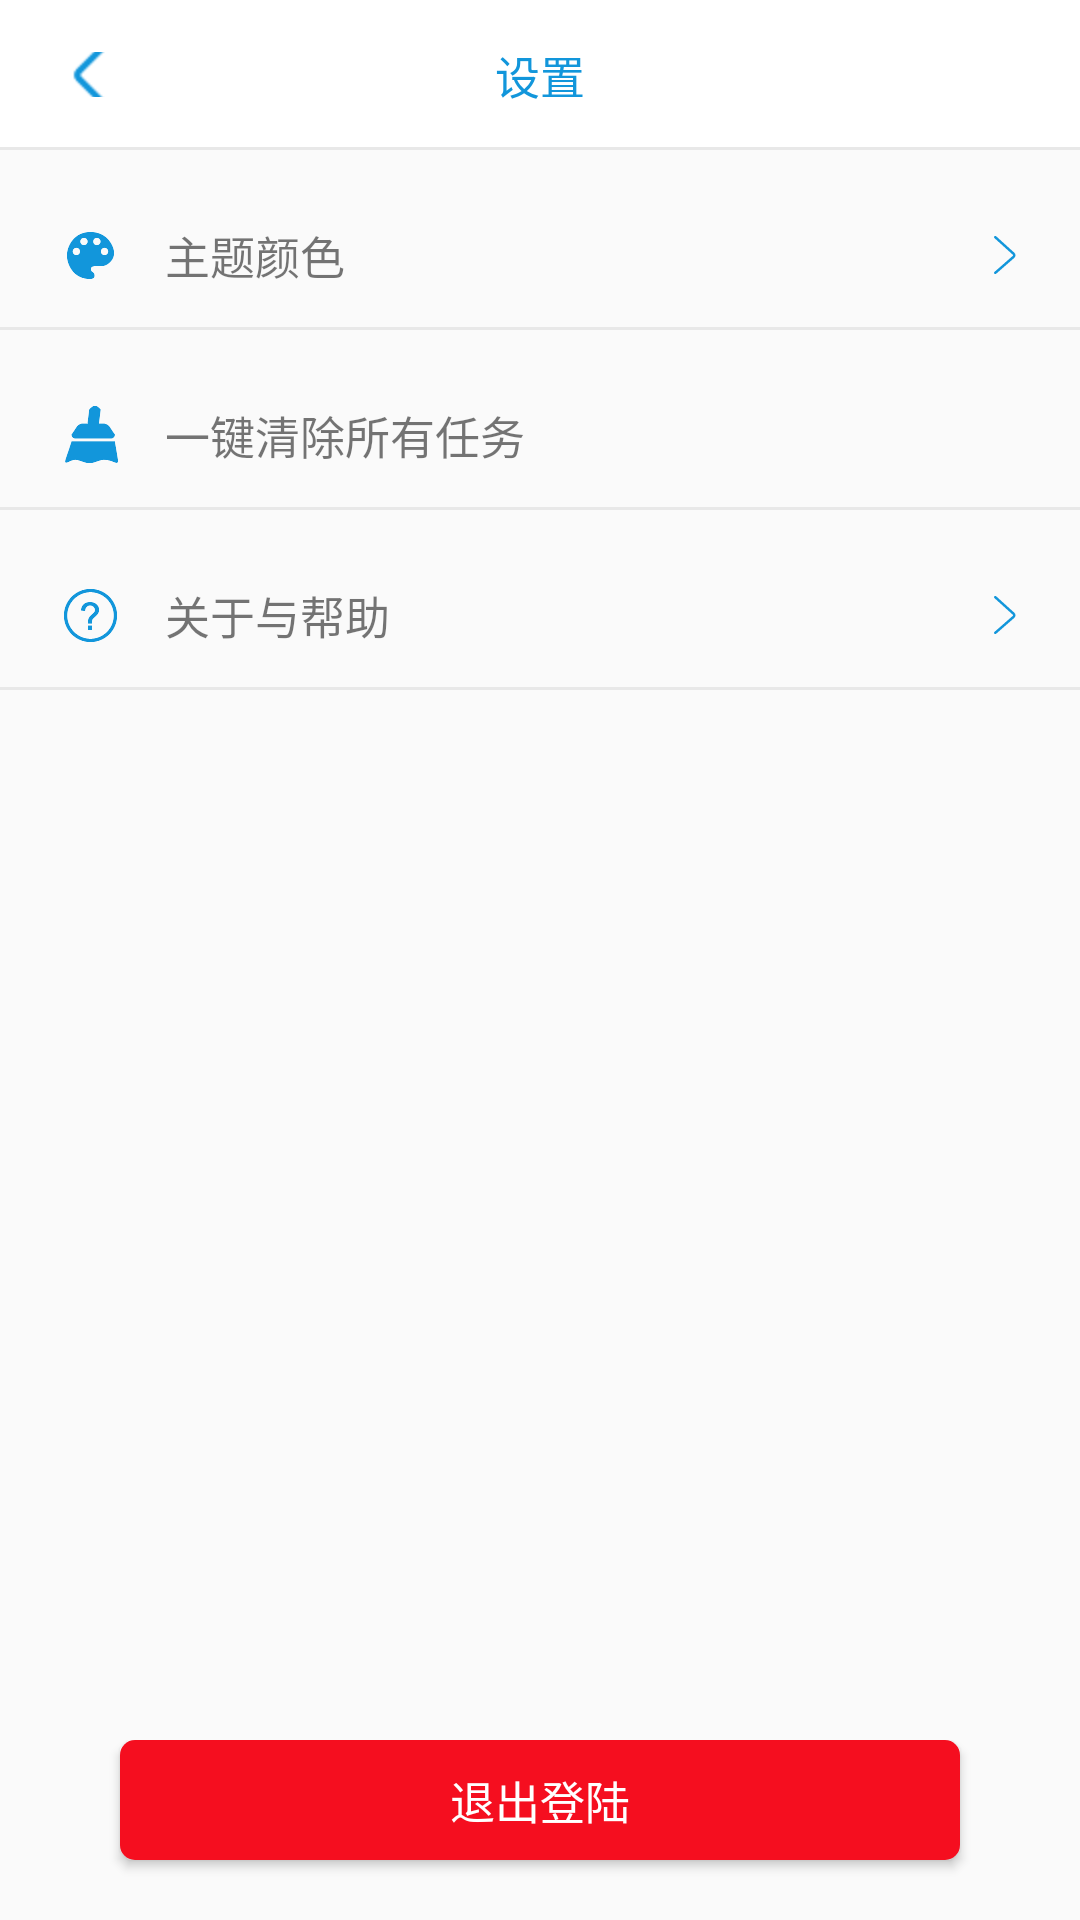

Icons on this 1080x1920 Android screen, each with its box as (x1, y1, x2, y2):
right: (994, 236, 1016, 274), (994, 596, 1016, 634)
